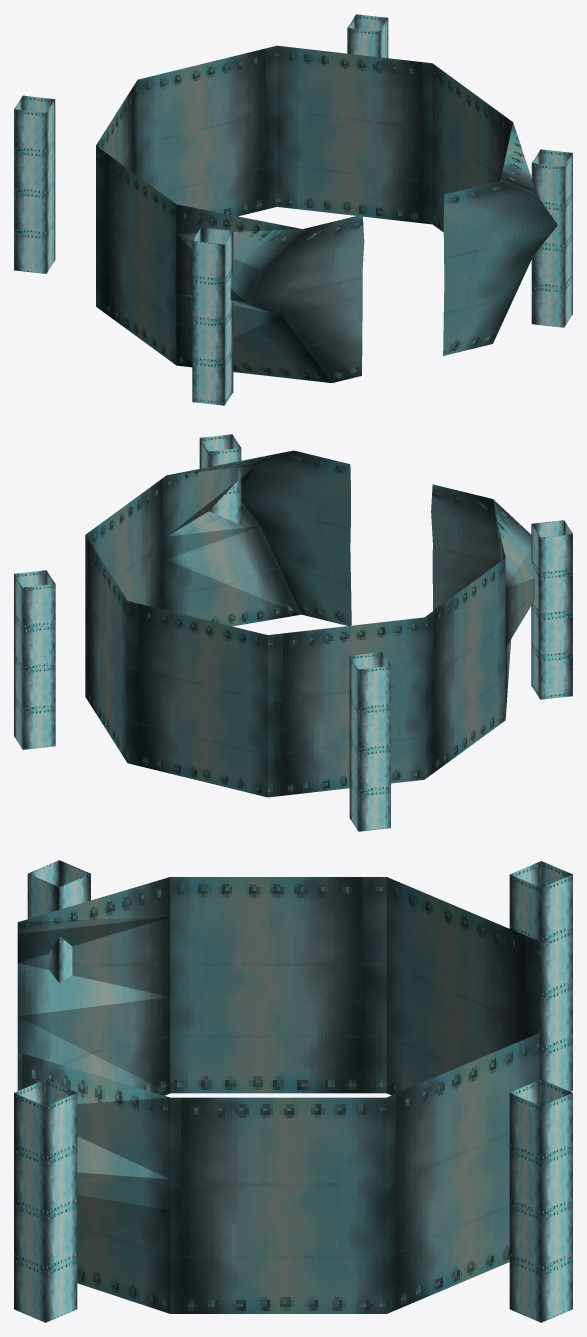
File: Ministerium_TreppenAußen_2483.glb
The picture shows the model from 3 angles, top to bottom: view 1: azimuth 30°, elevation 25°; view 2: azimuth 150°, elevation 25°; view 3: azimuth 270°, elevation 25°; orthographic projection. The views are drawn at different scales.
Visible parts, largest first — view 1: pCylinderShape87, pCylinderShape124, pCylinderShape123, pCylinderShape126, pCylinderShape125; view 2: pCylinderShape87, pCylinderShape125, pCylinderShape124, pCylinderShape123, pCylinderShape126; view 3: pCylinderShape87, pCylinderShape125, pCylinderShape126, pCylinderShape124, pCylinderShape123.
Boxes of the visible parts, bbox=[...] form: pCylinderShape87: bbox=[96, 45, 557, 382]; pCylinderShape124: bbox=[14, 95, 55, 273]; pCylinderShape123: bbox=[192, 227, 233, 405]; pCylinderShape126: bbox=[531, 149, 572, 327]; pCylinderShape125: bbox=[347, 14, 388, 58]; pCylinderShape87: bbox=[85, 450, 534, 797]; pCylinderShape125: bbox=[14, 570, 55, 749]; pCylinderShape124: bbox=[349, 652, 390, 831]; pCylinderShape123: bbox=[531, 520, 572, 699]; pCylinderShape126: bbox=[199, 434, 241, 524]; pCylinderShape87: bbox=[17, 877, 539, 1313]; pCylinderShape125: bbox=[509, 1079, 572, 1322]; pCylinderShape126: bbox=[14, 1079, 77, 1322]; pCylinderShape124: bbox=[509, 861, 572, 1091]; pCylinderShape123: bbox=[27, 860, 90, 982].
Bounding box in the file's own units: 0.949 × 0.3891 × 0.9106.
5 materials, 5 textured.
